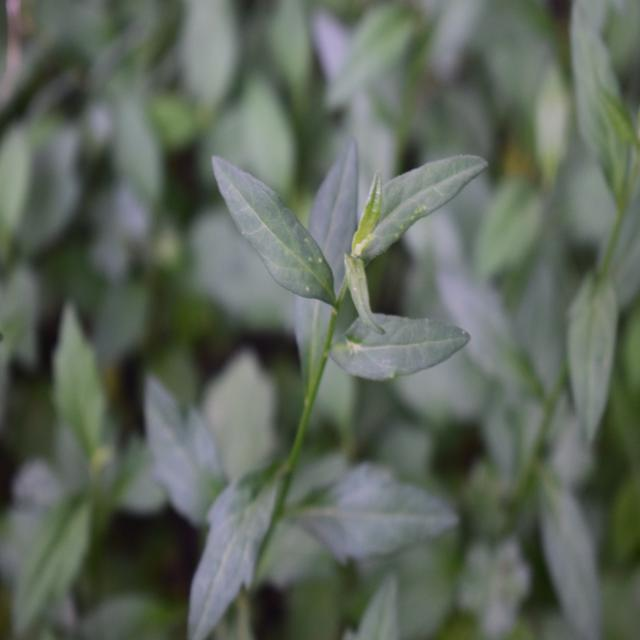Indian aster: (162, 146, 485, 613)
